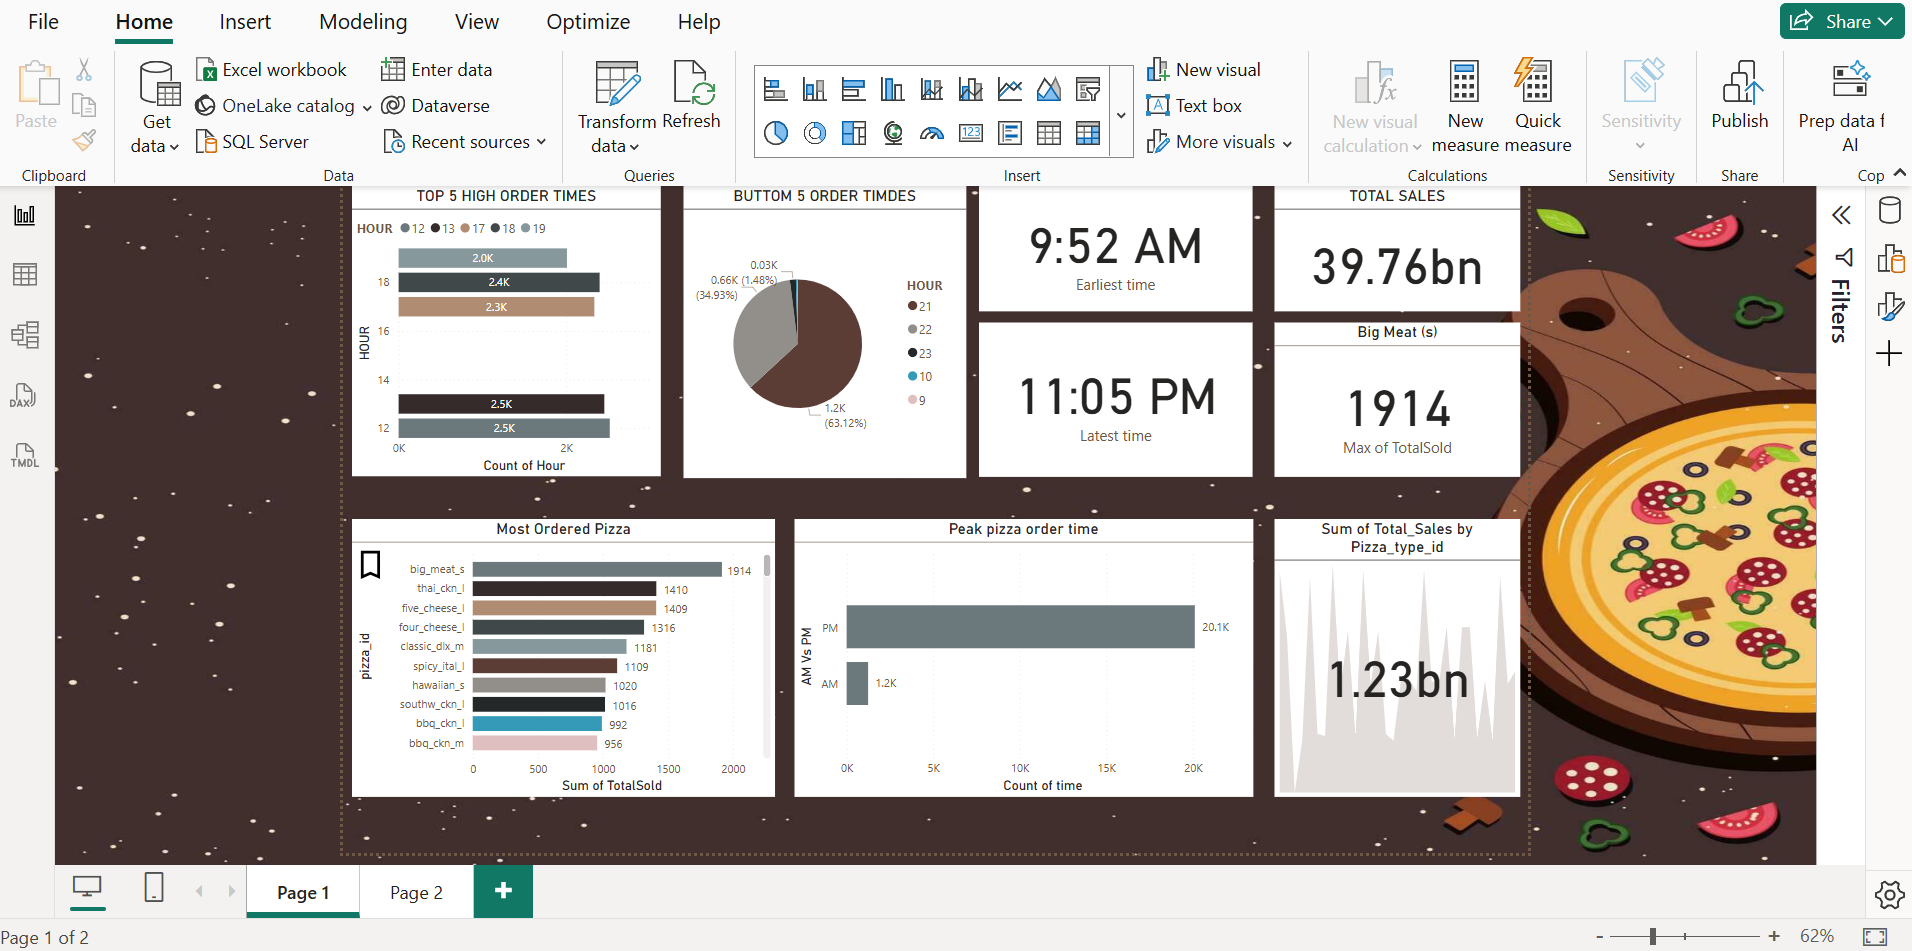

The dashboard page shown, as its layout file describes it:
{"tool":"powerbi","page":{"name":"Page 1","canvas":[1280,720],"ordinal":0},"visuals":[{"type":"barChart","title":"TOP 5 HIGH ORDER TIMES","fields":{"Category":["COUNT_HOUR.HOUR"],"Y":["CountNonNull(orders.Hour)"],"Series":["COUNT_HOUR.HOUR"]},"box":[10,0,333.3,313.3],"z":0},{"type":"pieChart","title":"BUTTOM 5 ORDER TIMDES","fields":{"Category":["COUNT_HOUR.HOUR"],"Y":["CountNonNull(orders.Hour)"]},"box":[367.5,0,305,315],"z":1000},{"type":"card","fields":{"Values":["Min(orders.time)"]},"box":[686.7,0,295,135],"z":2000},{"type":"card","fields":{"Values":["Max(orders.time)"]},"box":[686.7,146.7,295,166.7],"z":3000},{"type":"card","title":"TOTAL SALES","fields":{"Values":["Sum(order_details.Total_Sales)"]},"box":[1005,0,265,135],"z":4000},{"type":"card","title":"Big Meat (s)","fields":{"Values":["Max(pizzas.TotalSold)"]},"box":[1005,146.7,265,166.7],"z":5000},{"type":"barChart","title":"Most Ordered Pizza","fields":{"Category":["pizzas.pizza_id"],"Y":["Sum(pizzas.TotalSold)"],"Series":["pizzas.pizza_id"]},"box":[10,360,456.7,300],"z":6000},{"type":"barChart","title":"Peak pizza order time","fields":{"Category":["orders.Text After Delimiter"],"Y":["CountNonNull(orders.time)"]},"box":[486.7,360,495,300],"z":7000},{"type":"kpi","fields":{"Indicator":["Sum(order_details.Total_Sales)"],"TrendLine":["pizza_types.Pizza_type_id"]},"box":[1005,360,265,300],"z":8000},{"type":"actionButton","box":[10,388.3,40,40],"z":9000}]}

Visuals, with their boxes on the page's 1280x720 design canvas (x1, y1, x2, y2). These are canvas units, not pixel positions in the 1912x951 screenshot, which may show the page scaled, cropped or inside an application window:
"TOP 5 HIGH ORDER TIMES" barChart: bbox=(10, 0, 343, 313)
"BUTTOM 5 ORDER TIMDES" pieChart: bbox=(368, 0, 672, 315)
card - Min(orders.time): bbox=(687, 0, 982, 135)
card - Max(orders.time): bbox=(687, 147, 982, 313)
"TOTAL SALES" card: bbox=(1005, 0, 1270, 135)
"Big Meat (s)" card: bbox=(1005, 147, 1270, 313)
"Most Ordered Pizza" barChart: bbox=(10, 360, 467, 660)
"Peak pizza order time" barChart: bbox=(487, 360, 982, 660)
kpi - Sum(order_details.Total_Sales) x pizza_types.Pizza_type_id: bbox=(1005, 360, 1270, 660)
actionButton: bbox=(10, 388, 50, 428)
